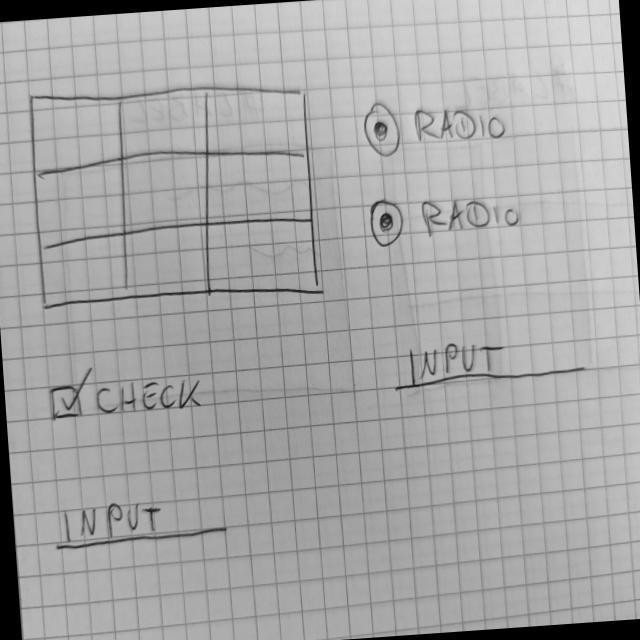checkbox: (46, 357, 211, 427)
input: (389, 328, 590, 396), (52, 492, 233, 555)
radio: (360, 90, 407, 160), (367, 185, 409, 253)
table: (24, 71, 325, 318)
